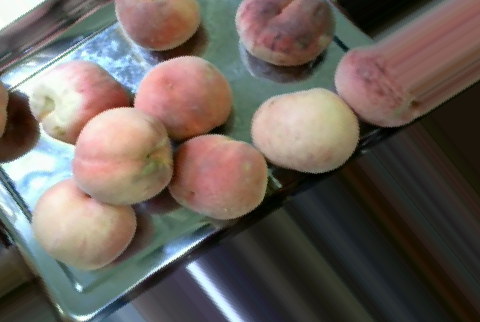Peach: (71, 108, 173, 206), (33, 174, 136, 269), (24, 60, 131, 147), (252, 88, 358, 173), (169, 133, 267, 219), (134, 55, 232, 140), (235, 0, 335, 65), (112, 1, 202, 50)
